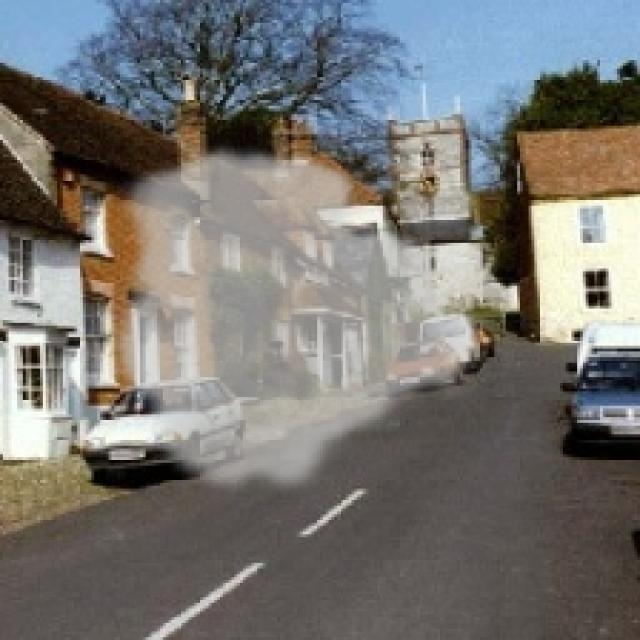smoke: (111, 143, 492, 500)
